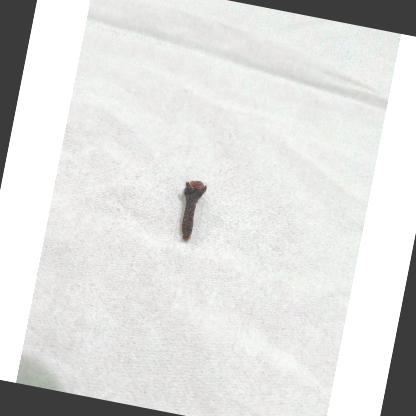sedang: (180, 180, 207, 243)
